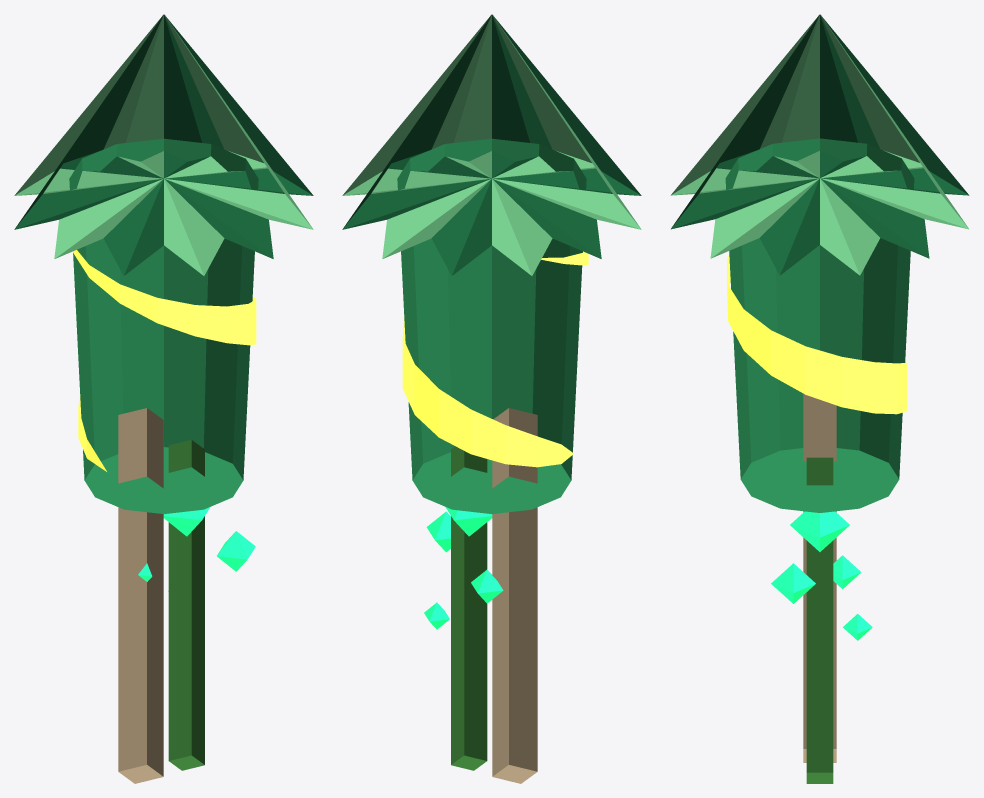
The model's file is rocket_jade_lit.glb.
The picture shows the model from 3 angles, left to right: view 1: azimuth 30°, elevation 25°; view 2: azimuth 150°, elevation 25°; view 3: azimuth 270°, elevation 25°; orthographic projection.
Visible parts, largest first — view 1: body, fan_a, fan_b, stick, fuse, emblem, sparks; view 2: body, fan_a, fan_b, stick, fuse, emblem, sparks; view 3: body, fan_a, fan_b, emblem, fuse, stick, sparks.
Boxes of the visible parts, box(x1,y1,x2,y2) form: body: box(69, 138, 258, 513); fan_a: box(14, 14, 313, 275); fan_b: box(14, 14, 313, 275); stick: box(118, 408, 163, 783); fuse: box(168, 440, 204, 770); emblem: box(72, 250, 256, 471); sparks: box(138, 507, 255, 591); body: box(397, 138, 586, 513); fan_a: box(342, 14, 641, 275); fan_b: box(342, 14, 641, 275); stick: box(492, 408, 537, 783); fuse: box(451, 446, 487, 770); emblem: box(402, 251, 588, 467); sparks: box(424, 507, 503, 629); body: box(725, 138, 914, 512); fan_a: box(671, 14, 969, 275); fan_b: box(670, 14, 968, 275); emblem: box(727, 255, 907, 414); fuse: box(806, 457, 833, 783); stick: box(803, 393, 836, 762); sparks: box(771, 511, 872, 640).
Size of the model in its own units: 0.396 by 1.1 by 0.396.
